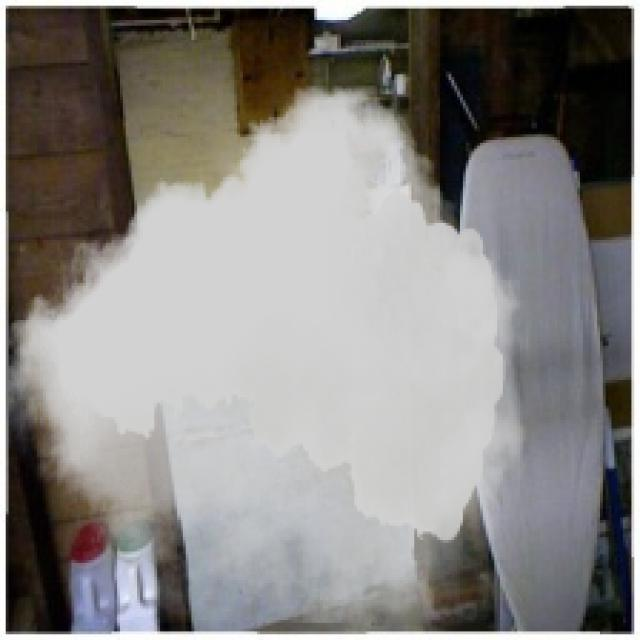Smoke: (9, 86, 528, 623)
